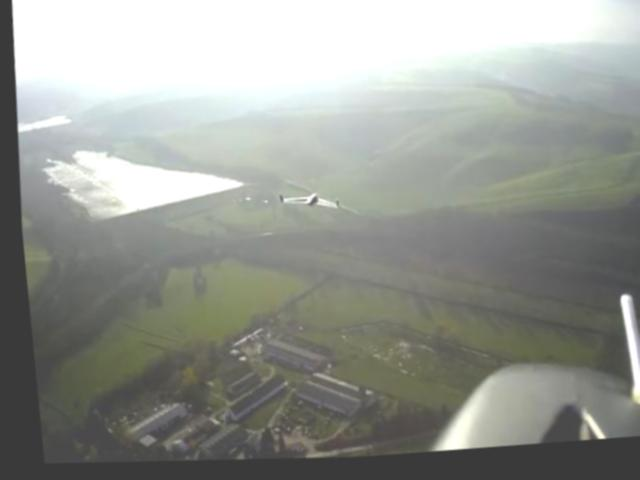iha: (278, 195, 334, 215)
